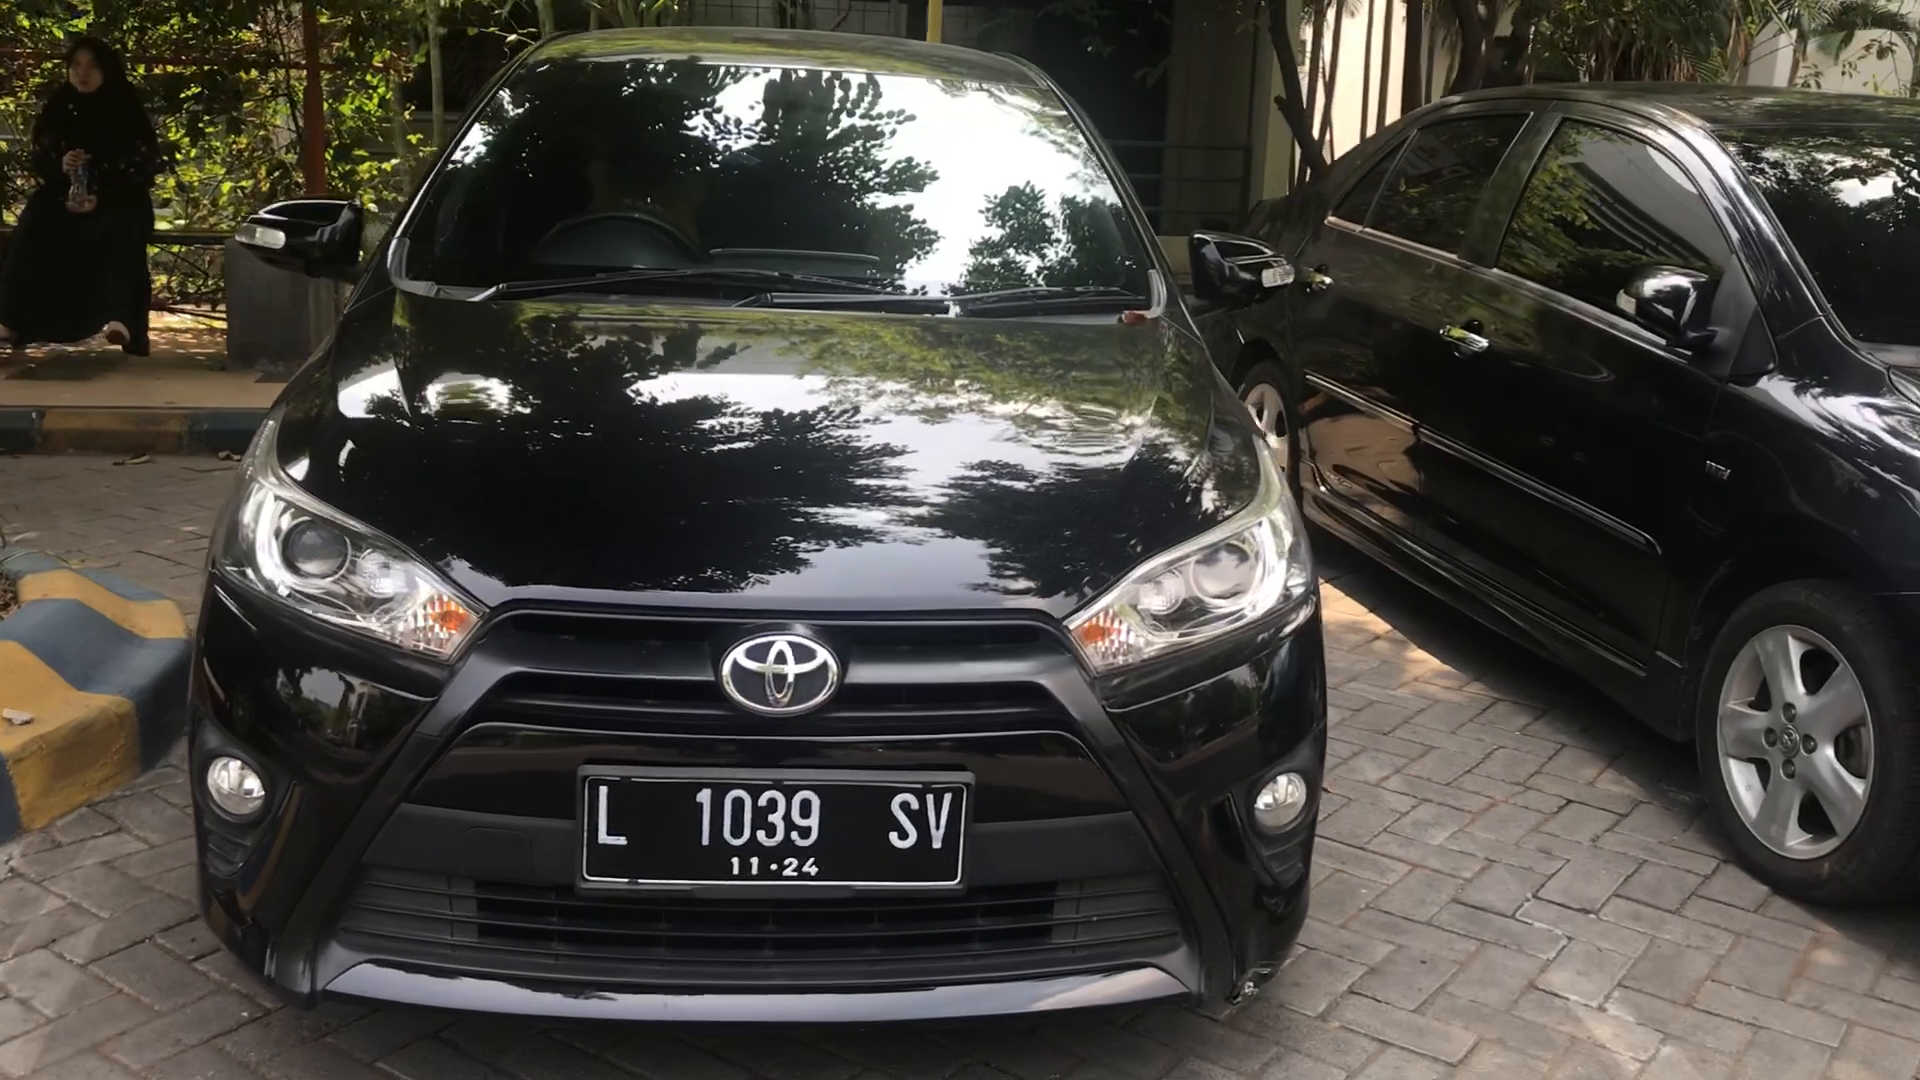plate: (577, 767, 970, 885)
